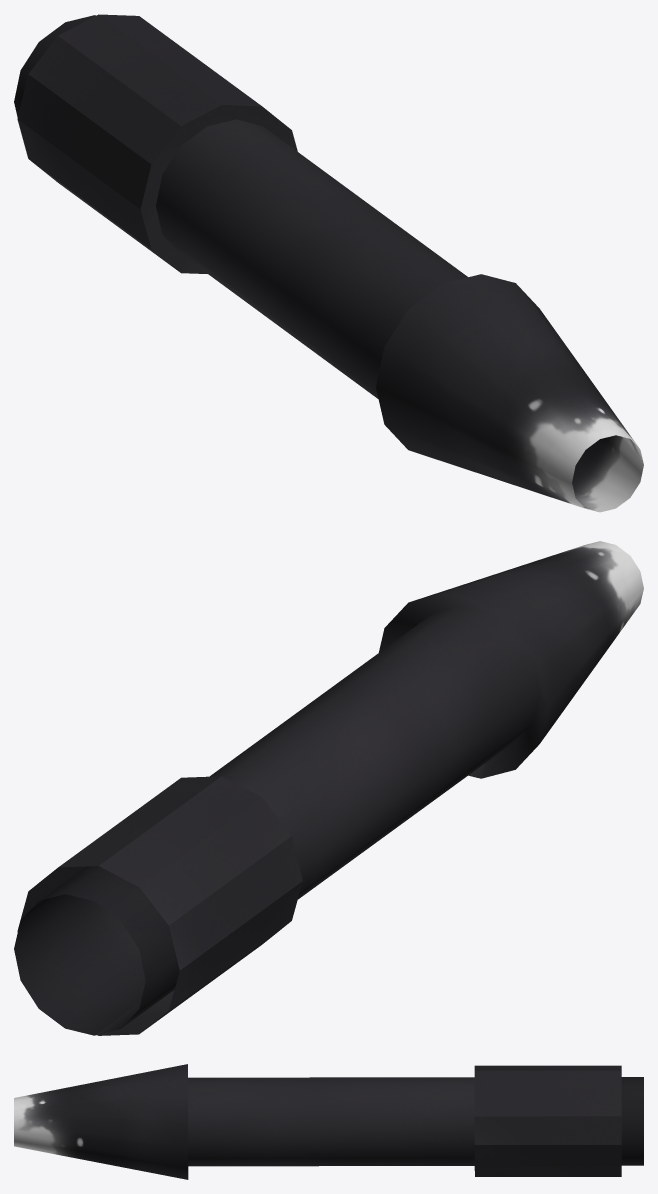
Rendered from Turret_Object.fbx.
3 views of the same model, one above another, from view 1: azimuth 30°, elevation 25°; view 2: azimuth 150°, elevation 25°; view 3: azimuth 270°, elevation 25° (orthographic). The views are drawn at different scales.
Visible parts, largest first — view 1: polySurface1; view 2: polySurface1; view 3: polySurface1.
Boxes of the visible parts, left/top/right/bottom form: polySurface1: left=14, top=14, right=643, bottom=512; polySurface1: left=14, top=541, right=643, bottom=1035; polySurface1: left=14, top=1064, right=643, bottom=1179.
Bounding box in the file's own units: 0.951 × 0.9272 × 5.05.
1 material, 1 textured.
